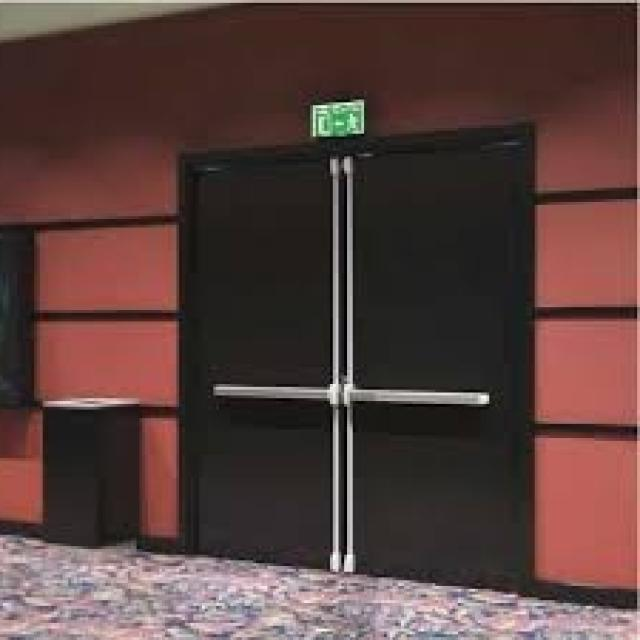door: (179, 124, 535, 593)
